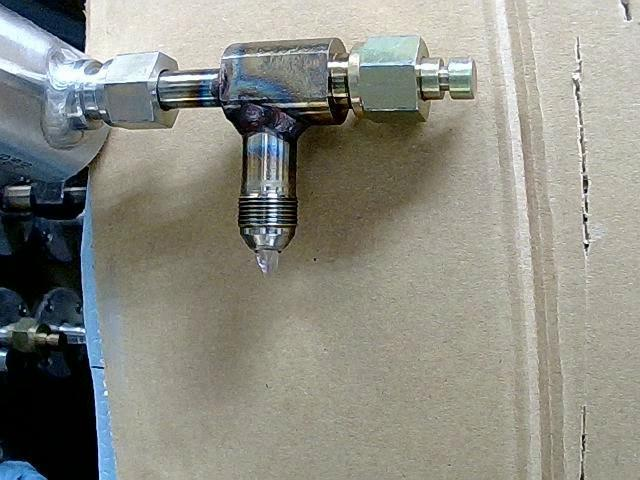water drop: (256, 250, 281, 278)
